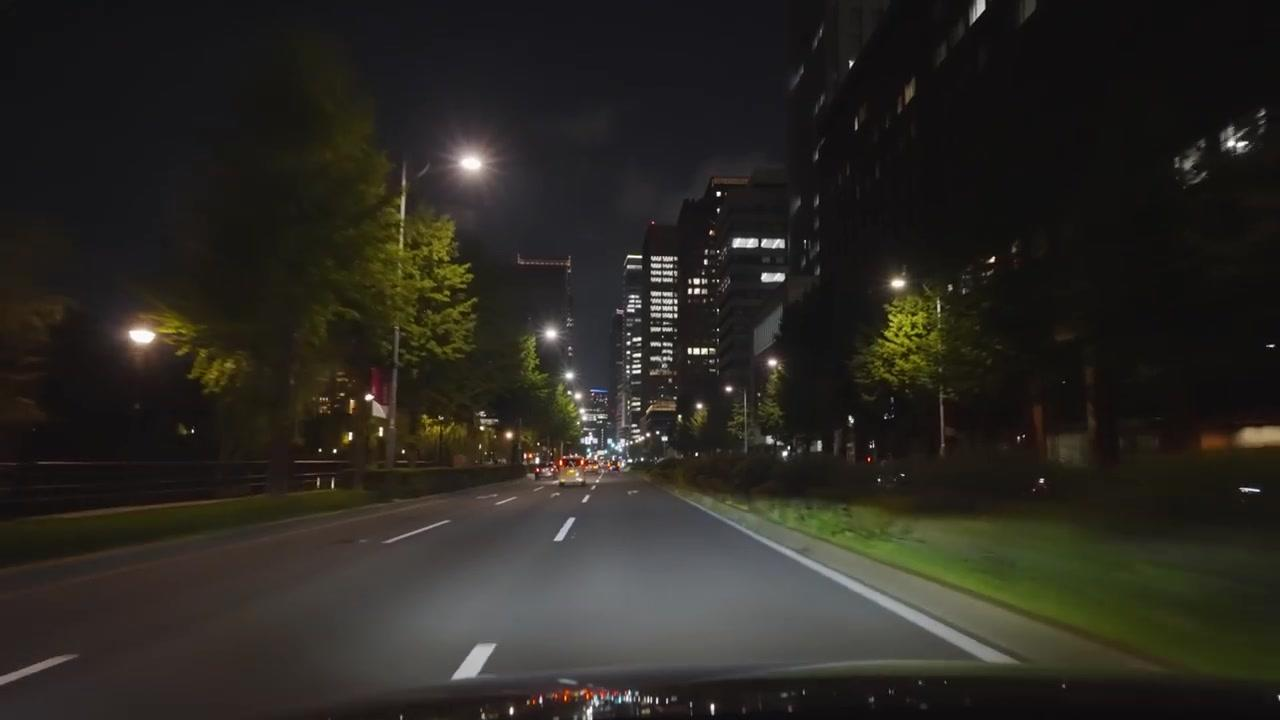car: (534, 462, 558, 479)
